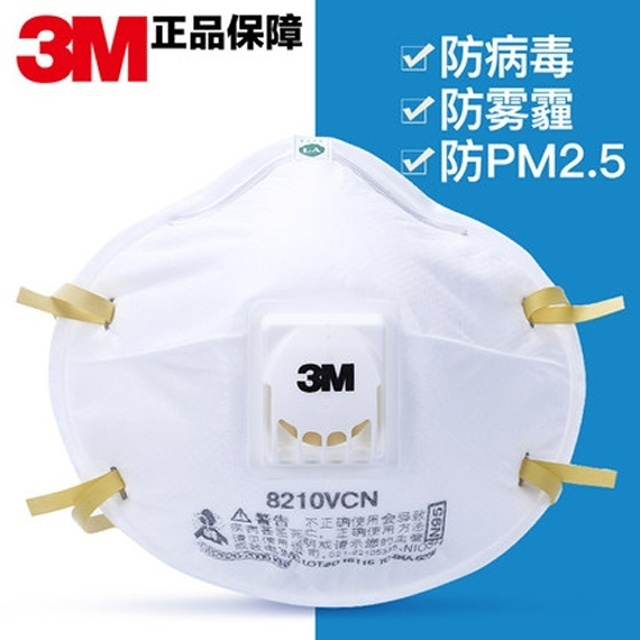mask: (8, 135, 625, 612)
